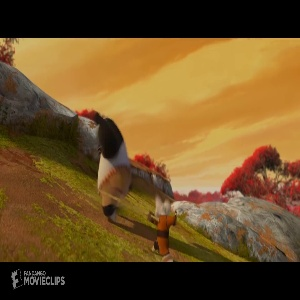po: (91, 110, 136, 225)
shifu: (144, 194, 182, 263)
